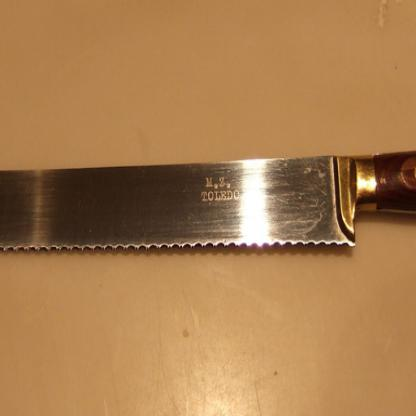knife: (0, 134, 415, 250)
